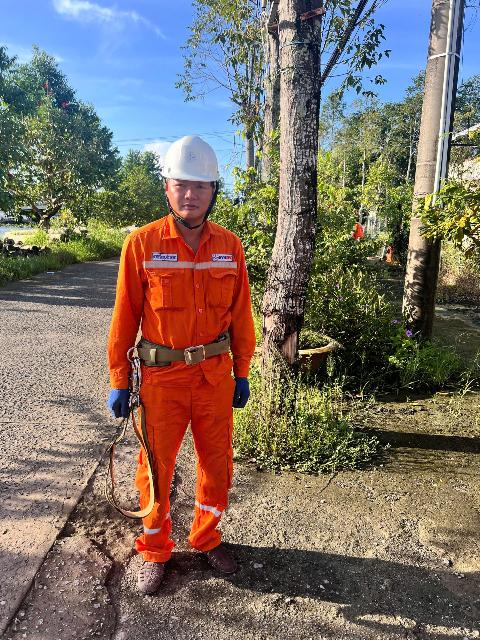gloves: (226, 365, 258, 414), (106, 381, 139, 424)
harness: (123, 323, 252, 376)
helmet: (156, 130, 234, 191)
shoes: (179, 535, 244, 580), (133, 546, 173, 597)
